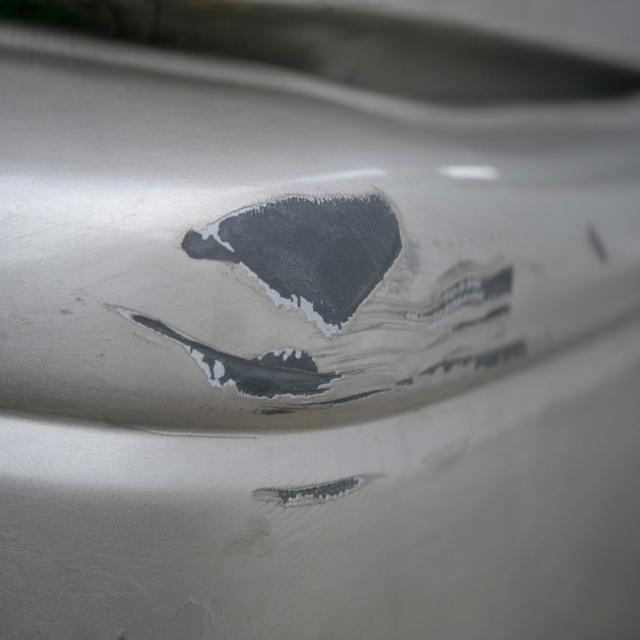scratch: (0, 185, 532, 446), (249, 471, 391, 507)
